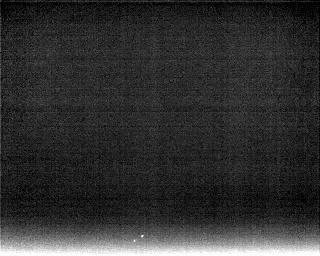BIRD: (131, 237, 137, 244)
